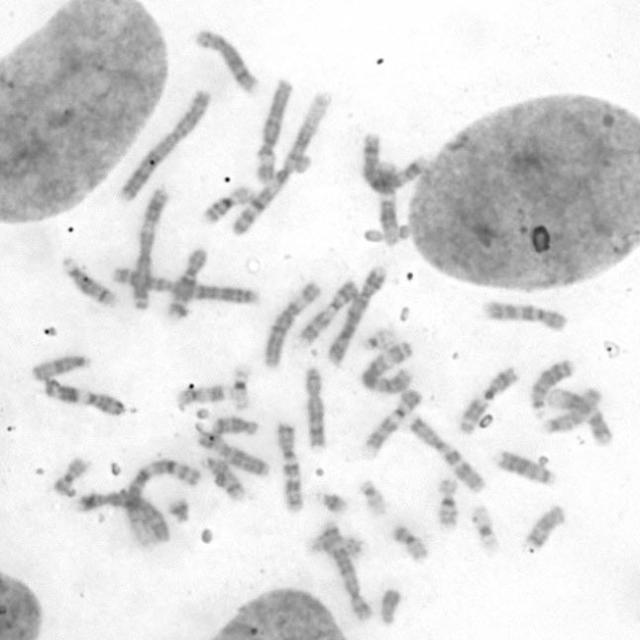A1: (228, 89, 335, 237), (125, 456, 203, 551)
A2: (121, 86, 214, 200), (109, 266, 262, 306)
A3: (130, 185, 169, 313), (360, 339, 416, 395)
B4: (325, 262, 386, 368), (76, 489, 170, 544)
B5: (318, 520, 375, 624), (362, 131, 432, 194)
C10: (163, 246, 210, 322), (480, 298, 570, 333)
C11: (458, 366, 520, 436), (44, 380, 126, 418)
C12: (547, 388, 612, 447), (376, 160, 402, 247)
C6: (261, 280, 323, 370), (254, 78, 294, 186)
C7: (406, 414, 488, 497), (275, 422, 305, 512)
C8: (194, 27, 262, 94), (302, 364, 328, 450)
C9: (363, 388, 425, 458), (298, 279, 359, 347)
D13: (527, 357, 578, 419), (492, 448, 560, 489)
D14: (61, 256, 119, 308), (197, 453, 246, 502)
D15: (537, 385, 603, 436), (30, 353, 89, 381)
E16: (203, 186, 256, 224), (435, 476, 459, 530)
E17: (310, 530, 370, 562), (176, 384, 230, 410)
E18: (523, 503, 567, 548), (211, 415, 260, 437)
F19: (467, 503, 500, 553), (228, 366, 252, 412)
F20: (51, 455, 90, 497), (390, 522, 430, 562)
G21: (314, 491, 351, 518), (166, 494, 192, 524)
G22: (357, 480, 388, 518), (360, 328, 396, 354)
X: (194, 431, 272, 478)
Y: (378, 584, 405, 626)
